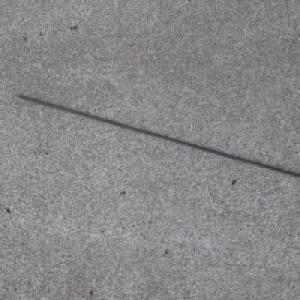LuggagePart: (16, 93, 300, 176)
